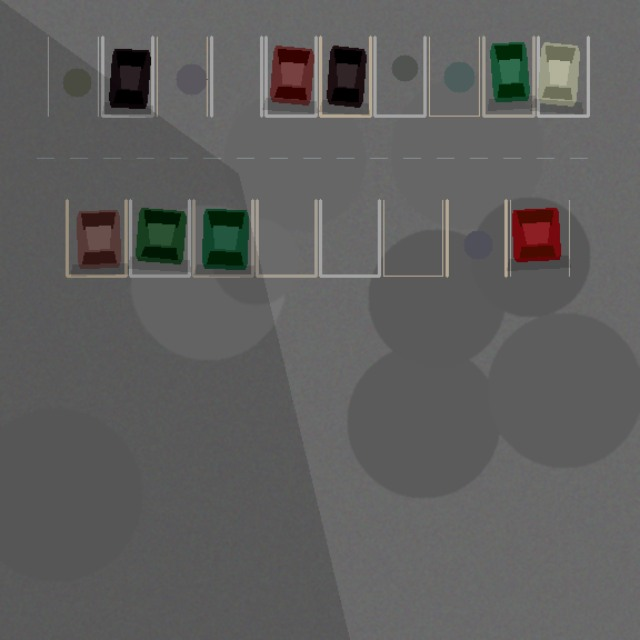space-empty: (257, 200, 316, 276), (320, 200, 379, 276), (383, 200, 442, 276), (447, 200, 506, 276), (48, 37, 98, 116), (157, 37, 207, 116), (211, 37, 261, 116), (374, 37, 424, 116), (429, 37, 479, 116)
space-occupied: (67, 200, 126, 276), (130, 200, 189, 276), (193, 200, 252, 276), (510, 200, 569, 276), (102, 37, 152, 116), (266, 37, 316, 116), (320, 37, 370, 116), (483, 37, 533, 116), (538, 37, 588, 116)
